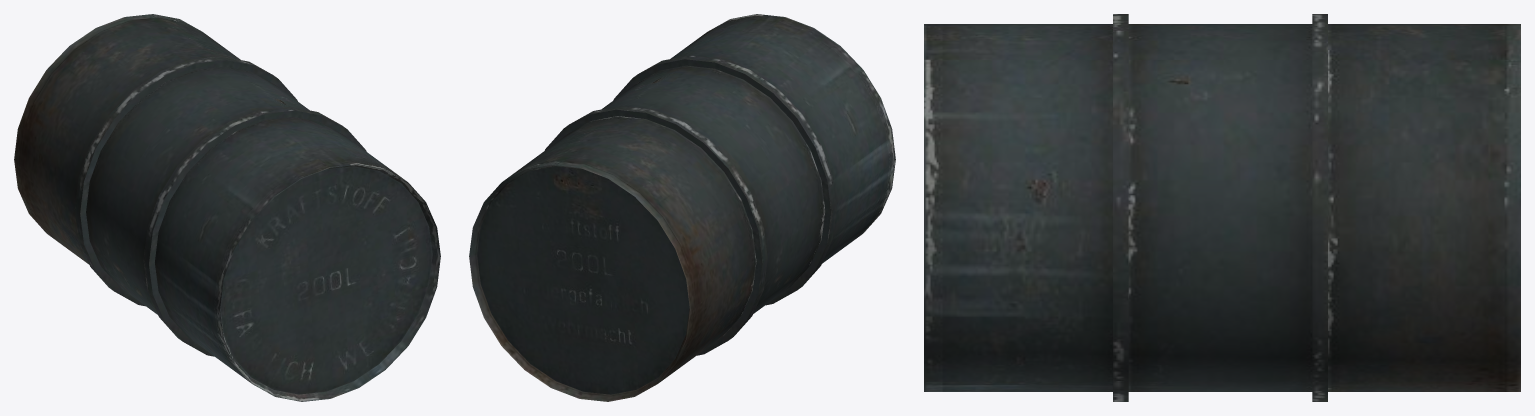
The model's file is prop_barrel_black.glb.
3 views of the same model, side by side, from view 1: azimuth 30°, elevation 25°; view 2: azimuth 150°, elevation 25°; view 3: azimuth 270°, elevation 25° (orthographic). The views are drawn at different scales.
Size of the model in its own units: 28.93 by 28.93 by 44.32.
1 material, 1 textured.
